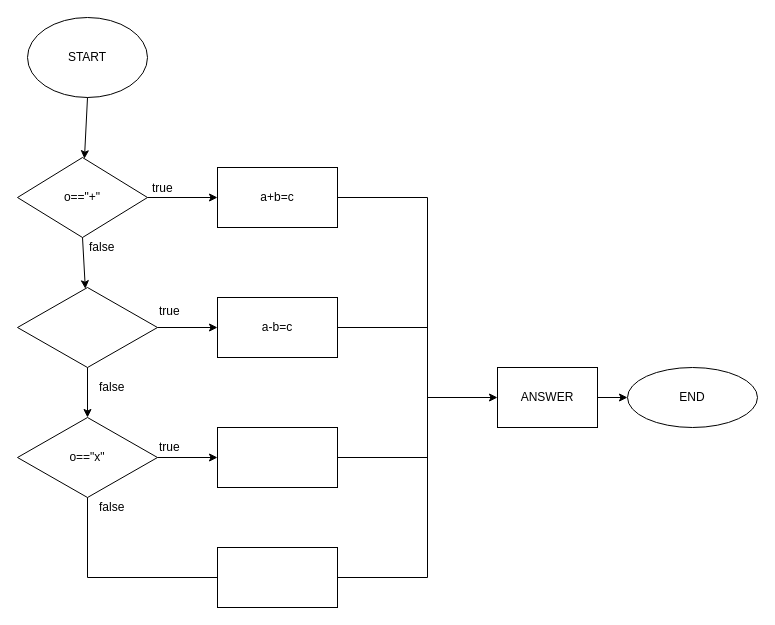
This 775x625 diagram has some shape labels left out. Each missing label, with the centre of its shape:
a/b=c: point (277, 577)
axb=c: point (277, 457)
o=="-": point (87, 327)
